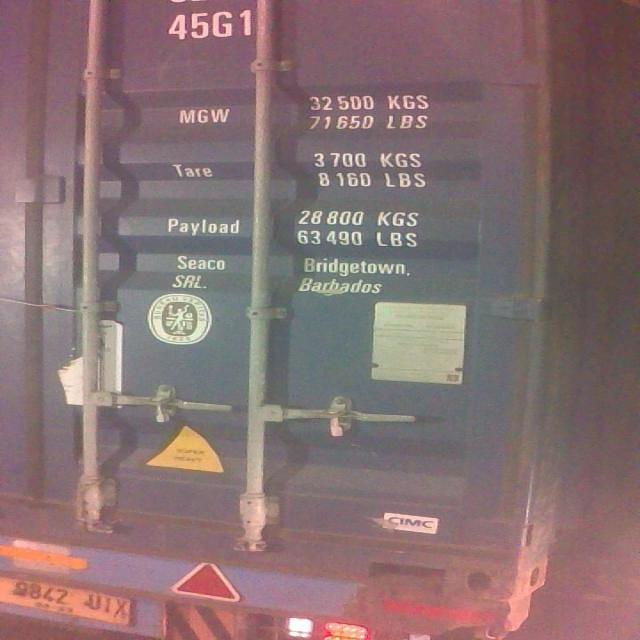seal: (325, 407, 347, 438), (149, 397, 170, 425)
